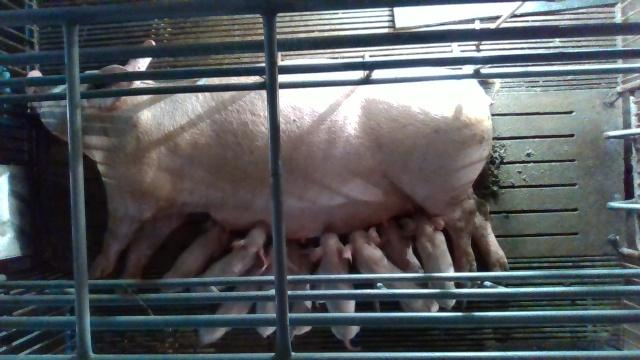piglet: (346, 225, 438, 314), (305, 232, 361, 352), (158, 217, 229, 295), (401, 214, 458, 309), (188, 225, 267, 292), (198, 267, 262, 345), (254, 243, 297, 338), (291, 245, 313, 342)
sow-sleep-lactate: (24, 39, 508, 292)
